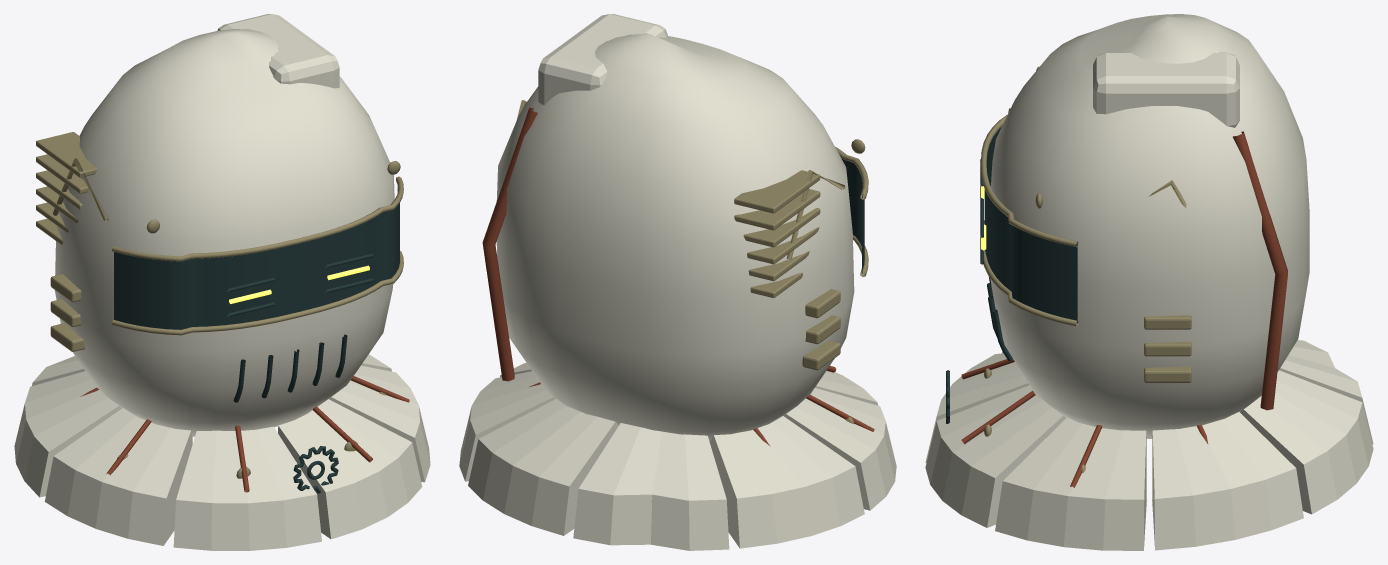
The model's file is tech-head.glb.
3 views of the same model, side by side, from view 1: azimuth 30°, elevation 25°; view 2: azimuth 150°, elevation 25°; view 3: azimuth 270°, elevation 25° (orthographic). The views are drawn at different scales.
Visible parts, largest first — view 1: tech • weathered porcelain, tech • graphite visor, tech • patinated metal, tech • rust seal; view 2: tech • weathered porcelain, tech • patinated metal, tech • rust seal, tech • graphite visor; view 3: tech • weathered porcelain, tech • graphite visor, tech • patinated metal, tech • rust seal.
Boxes of the visible parts, box(x1,y1,x2,y2) form: tech • weathered porcelain: box(14, 14, 430, 550); tech • graphite visor: box(114, 186, 399, 493); tech • patinated metal: box(36, 132, 403, 478); tech • rust seal: box(80, 376, 409, 492); tech • weathered porcelain: box(459, 14, 896, 550); tech • patinated metal: box(517, 100, 868, 423); tech • rust seal: box(482, 107, 874, 501); tech • graphite visor: box(841, 158, 864, 273); tech • weathered porcelain: box(925, 14, 1373, 550); tech • graphite visor: box(946, 128, 1077, 423); tech • patinated metal: box(980, 66, 1191, 472); tech • rust seal: box(961, 131, 1287, 487).
Bounding box in the file's own units: 0.6098 × 0.6799 × 0.6098.
